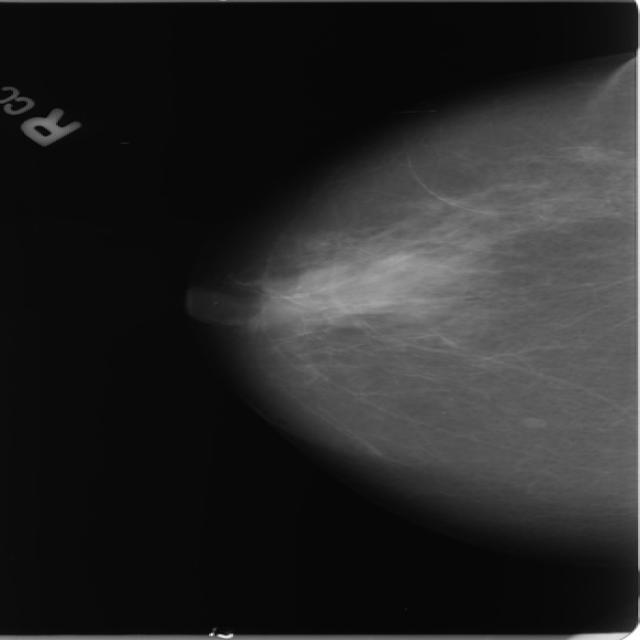tumour: (517, 414, 545, 426)
